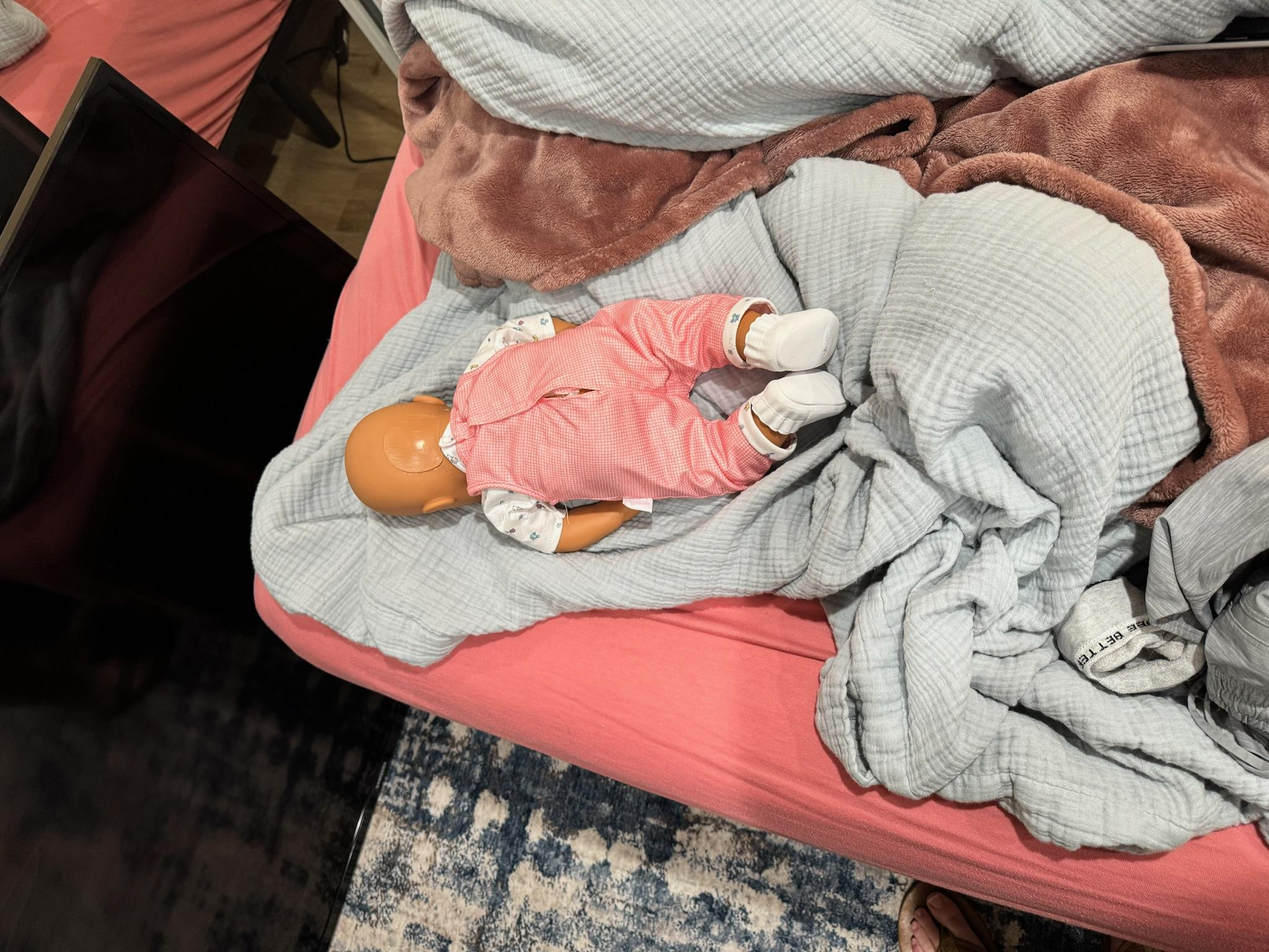baby: (349, 298, 855, 553)
